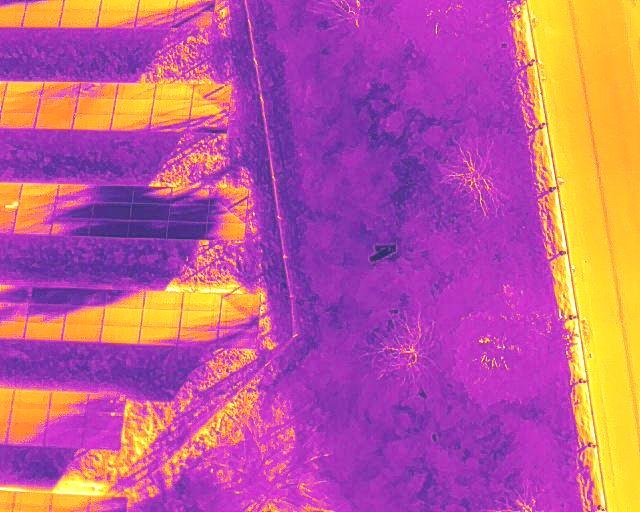No-Anomaly: (12, 493, 52, 512), (103, 308, 142, 327), (101, 325, 140, 344), (59, 8, 99, 26), (10, 407, 47, 426), (21, 9, 60, 27), (144, 292, 183, 310), (24, 321, 63, 339), (142, 309, 181, 327), (63, 325, 101, 343), (11, 391, 50, 408), (183, 294, 221, 311), (180, 311, 219, 327), (50, 495, 88, 511), (34, 114, 74, 129), (76, 98, 115, 113), (72, 113, 111, 128), (38, 97, 76, 112), (1, 96, 39, 111), (0, 112, 36, 127), (114, 99, 152, 113)
Shadowing: (168, 203, 209, 225), (89, 218, 130, 239), (208, 187, 249, 207), (205, 222, 245, 242), (129, 219, 169, 239), (168, 221, 208, 241), (94, 183, 136, 202), (92, 200, 131, 220), (44, 427, 83, 447), (131, 186, 172, 205), (66, 288, 106, 307), (130, 204, 170, 223), (208, 204, 246, 224), (65, 307, 105, 326), (27, 304, 67, 323), (46, 409, 85, 428), (140, 327, 179, 346), (105, 289, 144, 308), (86, 394, 125, 413), (7, 425, 44, 445), (82, 429, 120, 448), (56, 183, 96, 201), (217, 329, 257, 347), (20, 183, 57, 202), (135, 10, 174, 28), (96, 10, 135, 28), (28, 286, 67, 304), (179, 328, 217, 346), (50, 392, 88, 410), (173, 10, 213, 27), (53, 201, 93, 218), (40, 81, 80, 98), (52, 218, 89, 236), (220, 312, 259, 329), (84, 413, 122, 430), (221, 295, 259, 312), (193, 84, 230, 101), (190, 99, 229, 115), (14, 216, 53, 232), (190, 116, 228, 132), (79, 82, 117, 98), (4, 81, 42, 97), (155, 83, 193, 99), (117, 82, 154, 98), (112, 114, 150, 129), (152, 100, 190, 115), (90, 496, 126, 511), (151, 115, 189, 129), (19, 201, 53, 216)
